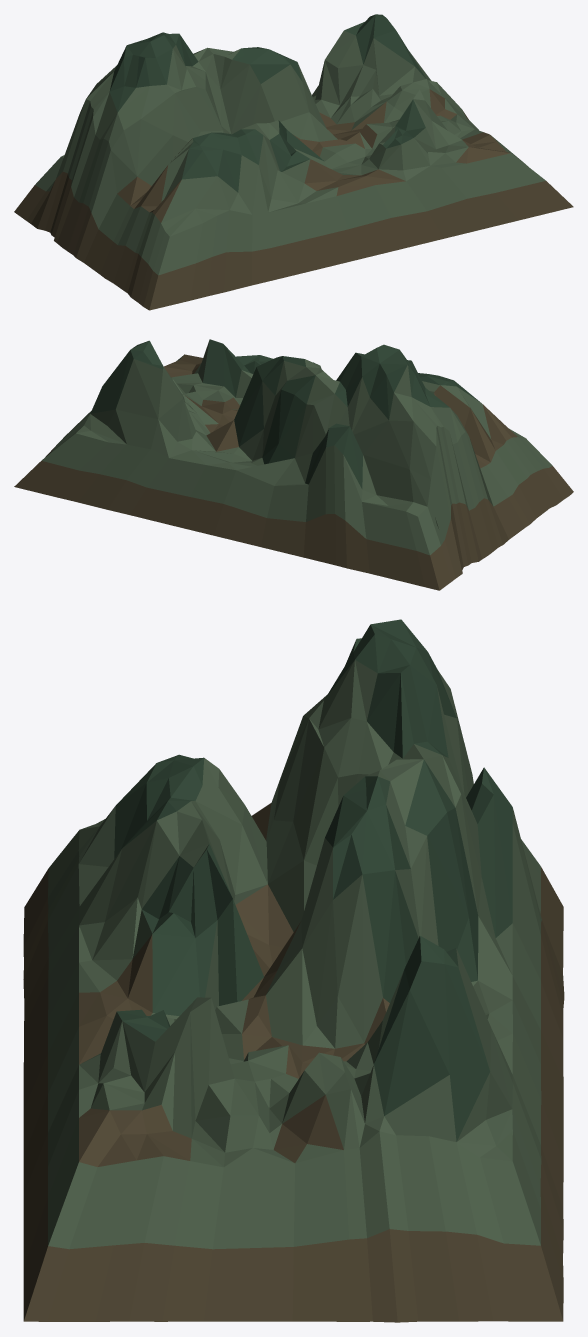
The model's file is lowpolyterrain.fbx.
3 views of the same model, one above another, from view 1: azimuth 30°, elevation 25°; view 2: azimuth 150°, elevation 25°; view 3: azimuth 270°, elevation 25° (orthographic). The views are drawn at different scales.
Visible parts, largest first — view 1: Terrain; view 2: Terrain; view 3: Terrain.
Part boxes in pixels (left/top/right/bottom): Terrain: left=14, top=14, right=573, bottom=310; Terrain: left=14, top=339, right=573, bottom=590; Terrain: left=23, top=619, right=564, bottom=1322.
Size of the model in its own units: 12202 by 5091 by 6695.
